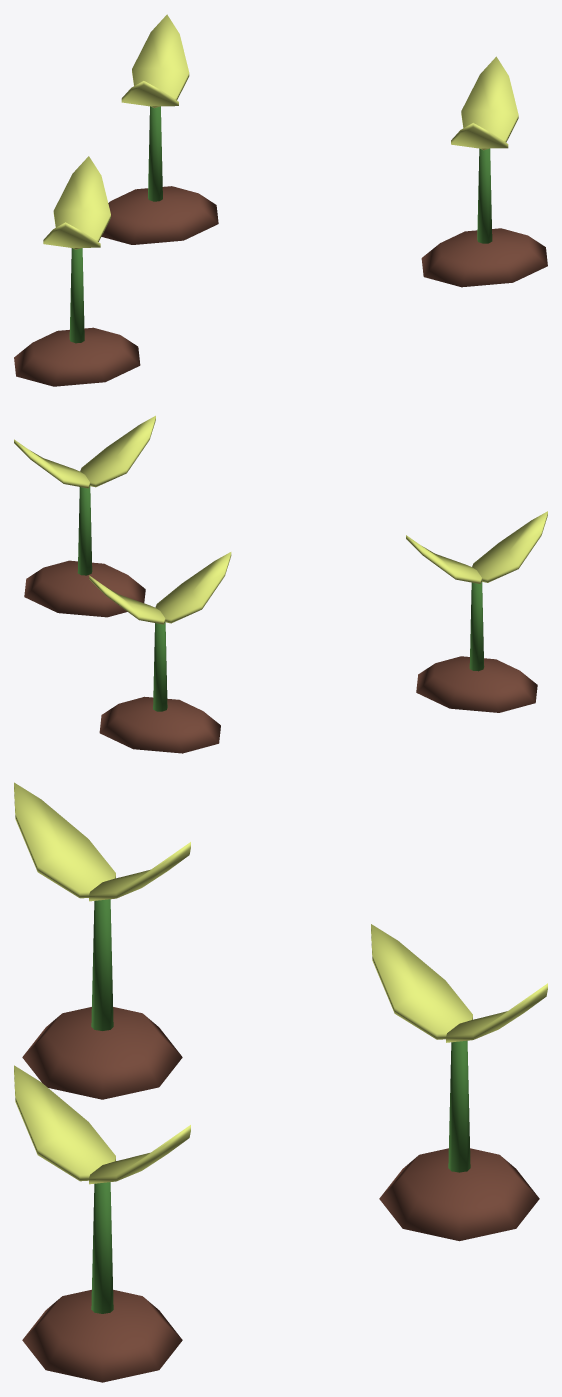
File: stage_1_sprout.glb
3 views of the same model, one above another, from view 1: azimuth 30°, elevation 25°; view 2: azimuth 150°, elevation 25°; view 3: azimuth 270°, elevation 25° (orthographic). The views are drawn at different scales.
Visible parts, largest first — view 1: 土丘.004, 土丘.003, 土丘.005, 子叶.002, 子叶, 子叶.004, 幼茎, 幼茎.001, 幼茎.002, 子叶.005, 子叶.003, 子叶.001; view 2: 土丘.005, 土丘.003, 土丘.004, 子叶.005, 子叶.003, 子叶.001, 幼茎.002, 幼茎.001, 幼茎, 子叶.004, 子叶, 子叶.002; view 3: 土丘.005, 土丘.004, 土丘.003, 子叶.003, 子叶.005, 子叶.001, 幼茎.002, 幼茎.001, 幼茎, 子叶, 子叶.004, 子叶.002.
Boxes of the visible parts, <box> form: 土丘.004: <box>421,228,547,287</box>; 土丘.003: <box>14,327,140,386</box>; 土丘.005: <box>101,186,218,244</box>; 子叶.002: <box>461,56,518,150</box>; 子叶: <box>53,156,110,249</box>; 子叶.004: <box>132,14,189,108</box>; 幼茎: <box>69,248,84,343</box>; 幼茎.001: <box>477,148,492,243</box>; 幼茎.002: <box>148,106,162,201</box>; 子叶.005: <box>121,81,178,106</box>; 子叶.003: <box>451,123,508,148</box>; 子叶.001: <box>43,222,100,247</box>; 土丘.005: <box>99,696,220,753</box>; 土丘.003: <box>416,656,537,712</box>; 土丘.004: <box>24,560,145,617</box>; 子叶.005: <box>155,552,231,623</box>; 子叶.003: <box>80,415,155,487</box>; 子叶.001: <box>472,511,547,582</box>; 幼茎.002: <box>153,622,167,711</box>; 幼茎.001: <box>77,486,92,575</box>; 幼茎: <box>469,582,484,671</box>; 子叶.004: <box>89,575,165,624</box>; 子叶: <box>406,535,481,583</box>; 子叶.002: <box>14,439,89,488</box>; 土丘.005: <box>379,1148,539,1241</box>; 土丘.004: <box>22,1289,182,1382</box>; 土丘.003: <box>22,1007,182,1099</box>; 子叶.003: <box>14,1065,115,1181</box>; 子叶.005: <box>371,924,472,1039</box>; 子叶.001: <box>14,782,115,898</box>; 幼茎.002: <box>448,1040,470,1172</box>; 幼茎.001: <box>91,1182,113,1313</box>; 幼茎: <box>91,899,113,1030</box>; 子叶: <box>89,842,190,901</box>; 子叶.004: <box>446,983,547,1042</box>; 子叶.002: <box>89,1125,190,1184</box>.
Bounding box in the file's own units: 0.78 × 0.2427 × 0.4787.
Materials: 1 (1 with a texture image).
